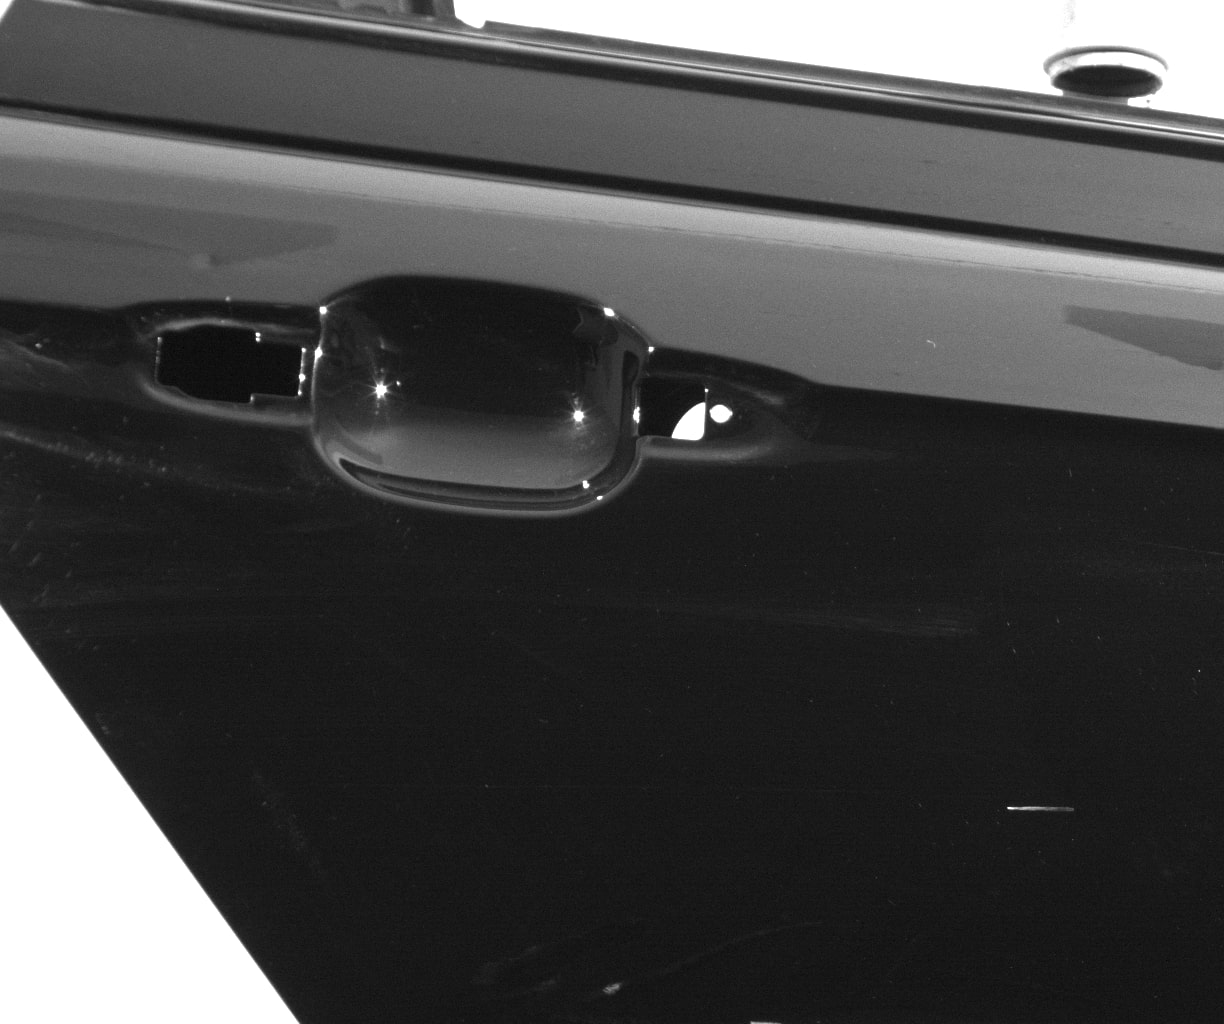scratch: (1006, 806, 1074, 811), (602, 981, 622, 997)
